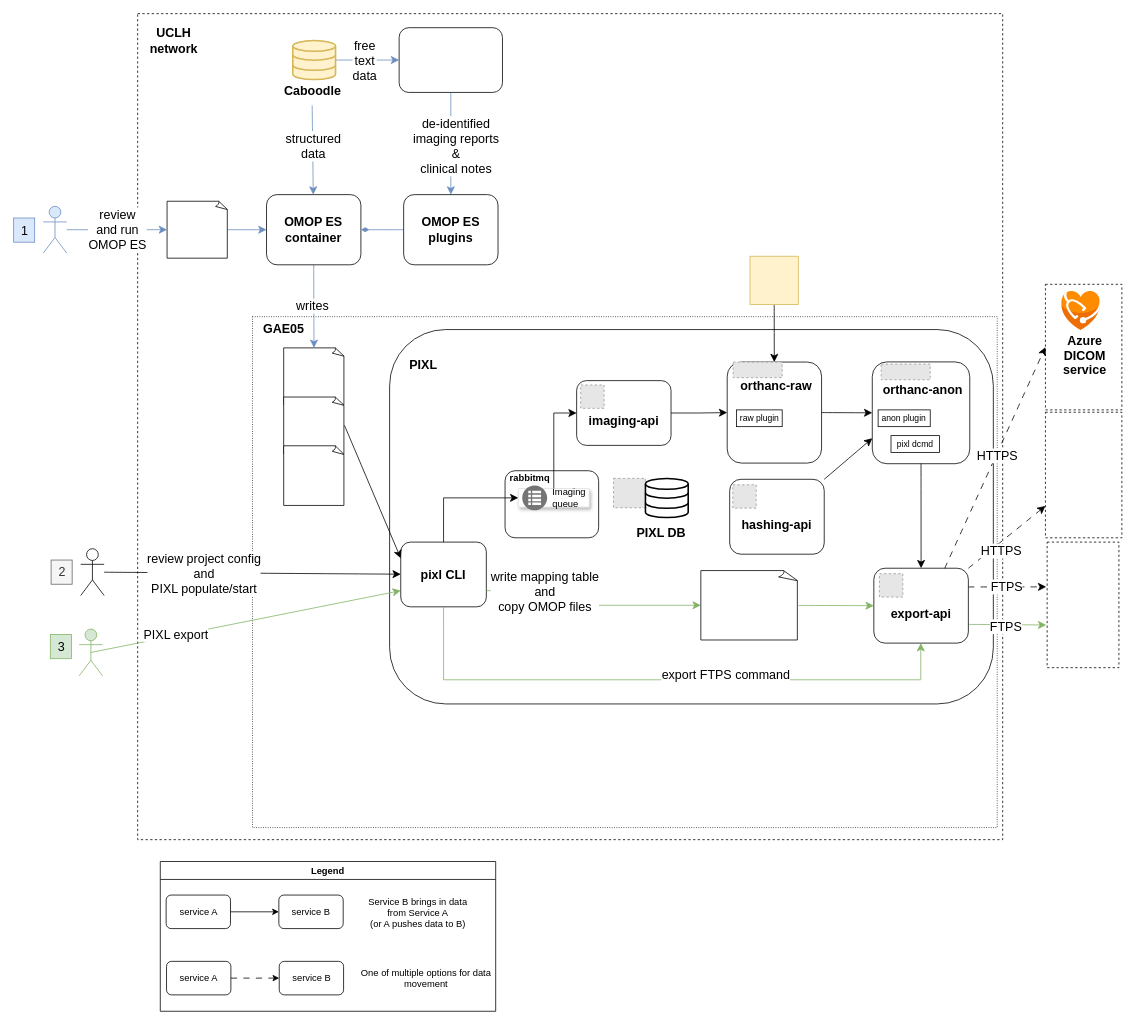
The diagram is 1140 pixels wide and 1025 high, and some of its shapes have lost their labels. Grey dashed boxes stand in for pictures. The centre of each missing label's shape, as x and y in pixels:
"Cogstack" belongs at [450,59].
"DICOMWeb API" belongs at [1083,474].
"export directory (public OMOP parquets)" belongs at [749,605].
"OMOP ES log (json)" belongs at [314,475].
"private (parquet)" belongs at [314,425].
"public (parquet)" belongs at [314,376].
"Settings" belongs at [197,229].
"UCL DSH" belongs at [1082,604].
"VNA" belongs at [773,280].
